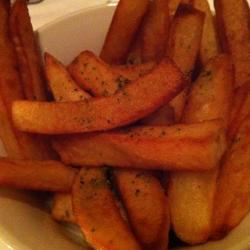fries: (23, 27, 248, 232)
